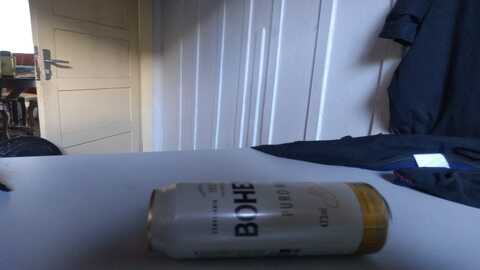bohemia: (142, 175, 390, 260)
